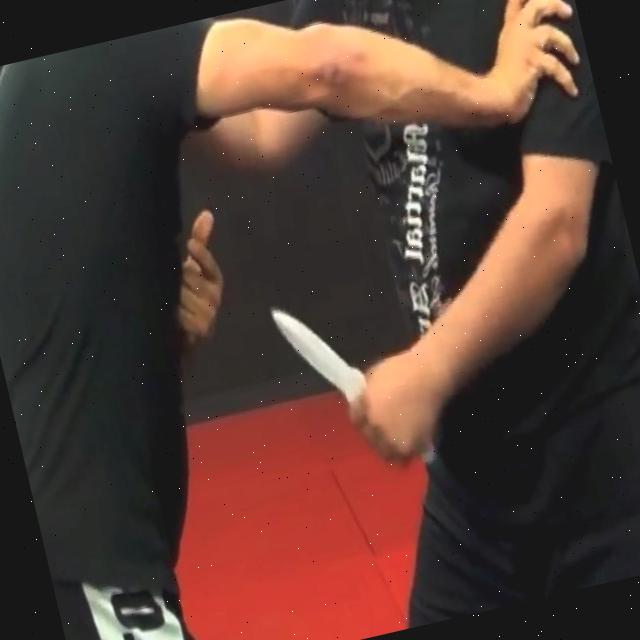suspicion: (231, 106, 640, 494), (265, 292, 361, 406), (416, 439, 439, 462)
